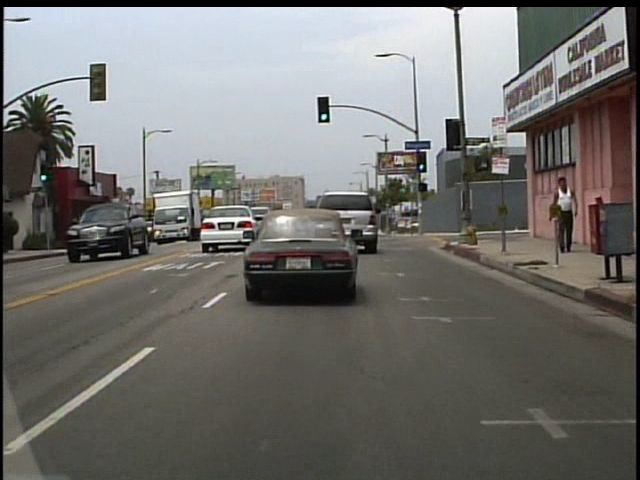person: (550, 172, 581, 255)
